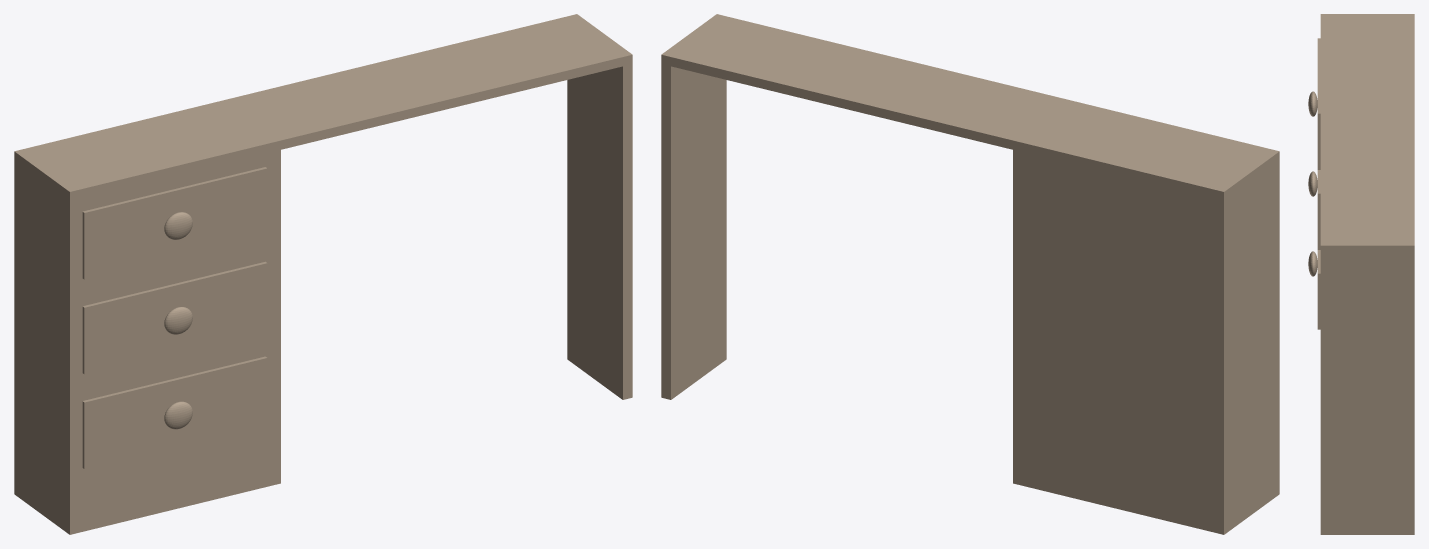
File: Mighty Allis-Blad.glb
The picture shows the model from 3 angles, left to right: view 1: azimuth 30°, elevation 25°; view 2: azimuth 150°, elevation 25°; view 3: azimuth 270°, elevation 25°; orthographic projection. The views are drawn at different scales.
Visible parts, largest first — view 1: Mesh_Mesh_head_geo.001_lambert2SG.001; view 2: Mesh_Mesh_head_geo.001_lambert2SG.001; view 3: Mesh_Mesh_head_geo.001_lambert2SG.001.
Part boxes in pixels (x1,y1,x2,y2): Mesh_Mesh_head_geo.001_lambert2SG.001: [14, 14, 632, 534]; Mesh_Mesh_head_geo.001_lambert2SG.001: [661, 14, 1279, 534]; Mesh_Mesh_head_geo.001_lambert2SG.001: [1308, 14, 1414, 534].
Bounding box in the file's own units: 0.0223 × 0.013 × 0.00433.
